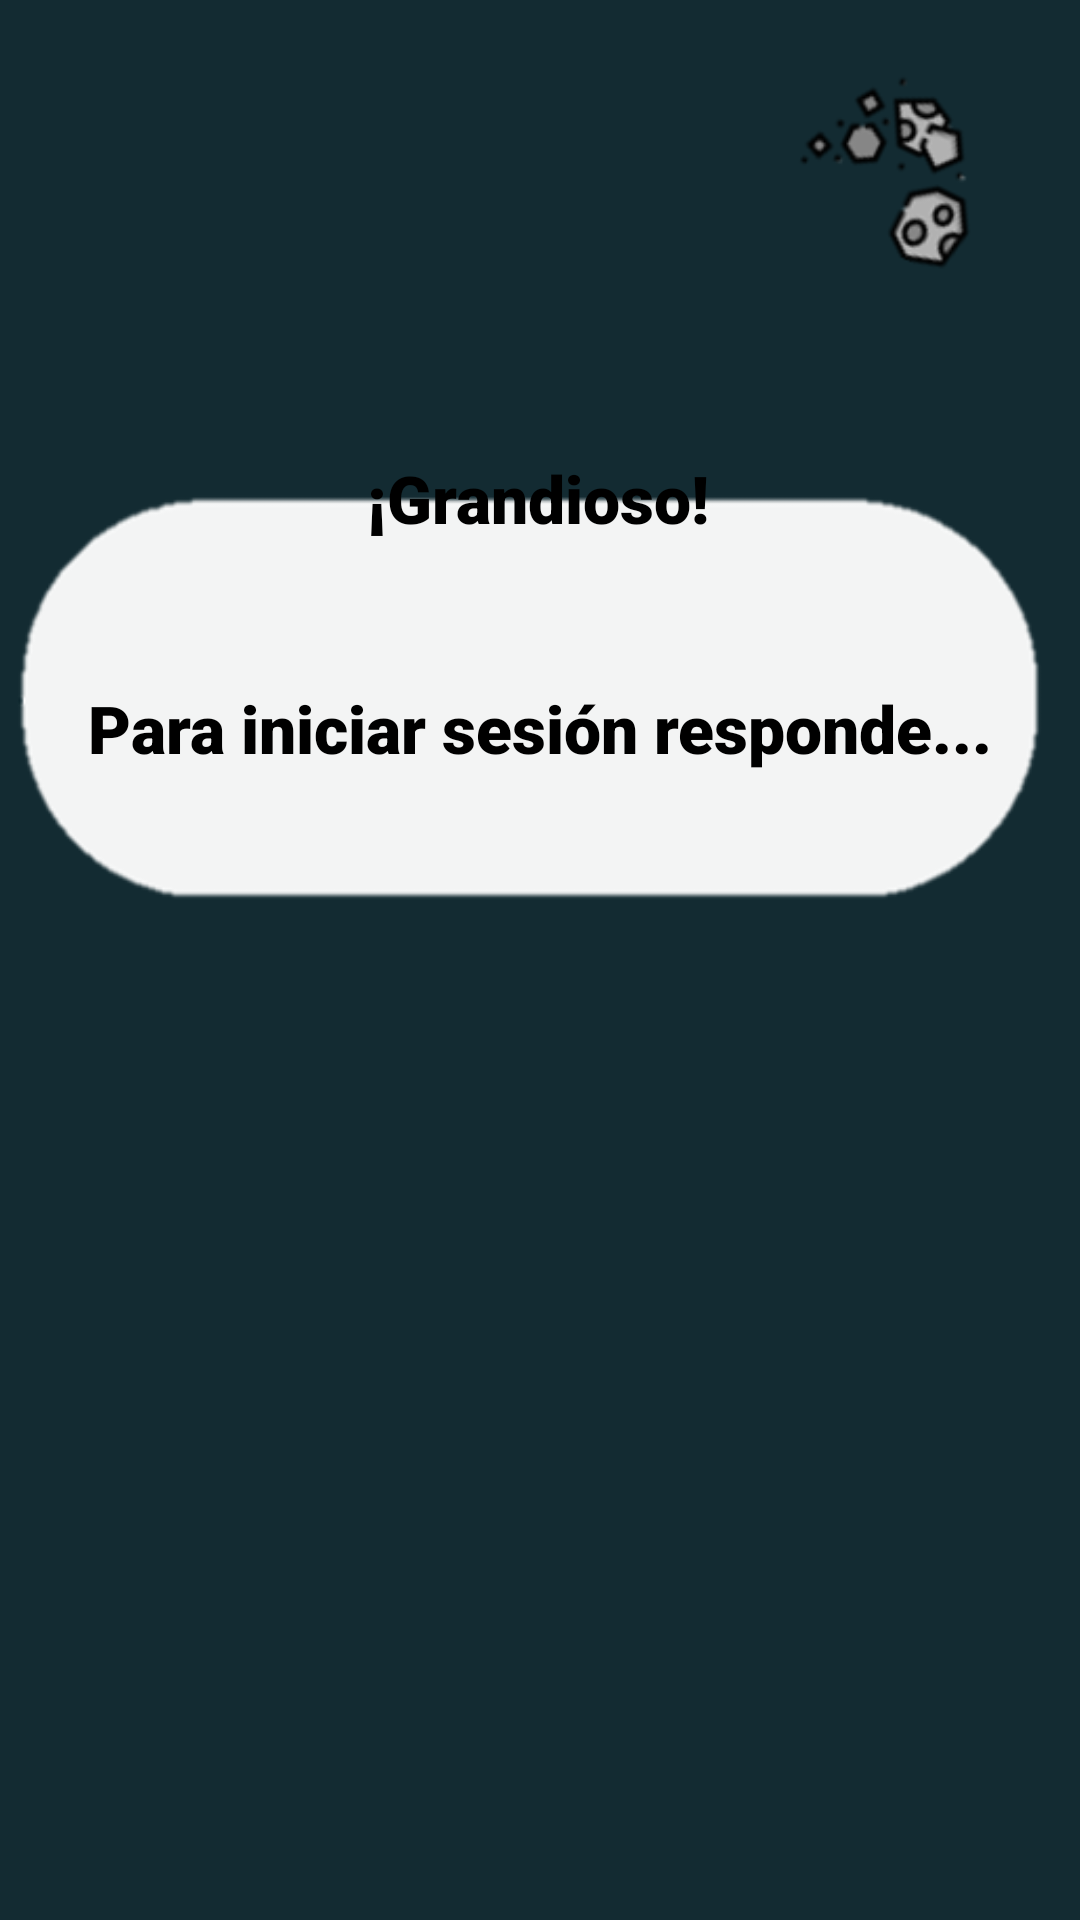

Icons on this 1080x1920 Android screen, each with the point to tap as [x,y]:
asteroides: [885,173]
